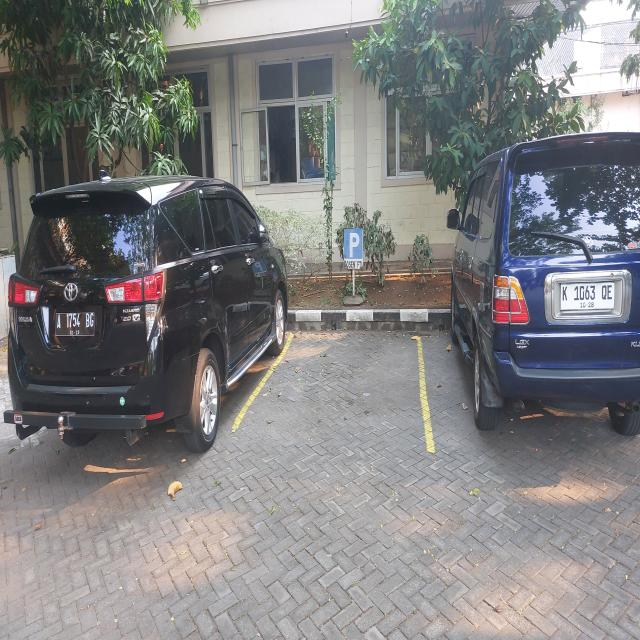empty: (230, 330, 431, 453)
occupied: (3, 175, 292, 462), (419, 133, 640, 455)
